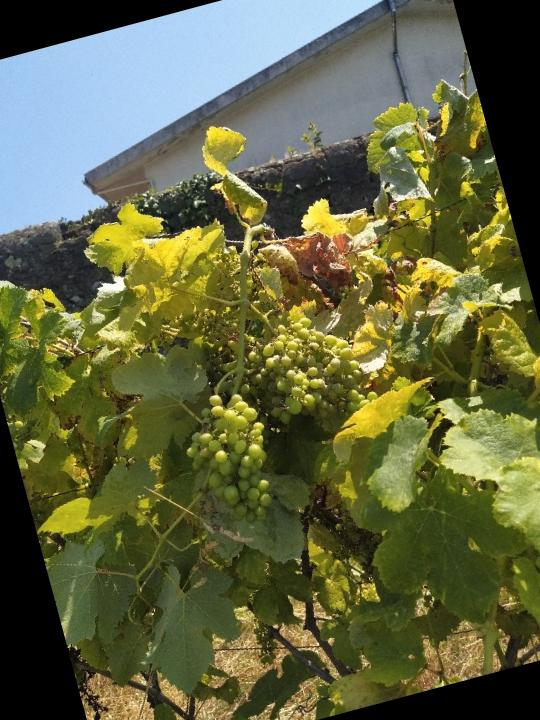grape: (235, 300, 385, 442), (171, 383, 290, 539)
